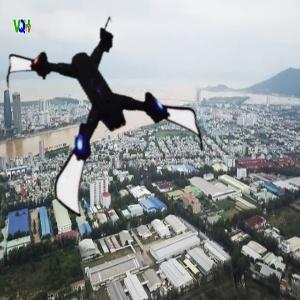drone: (19, 20, 202, 203)
